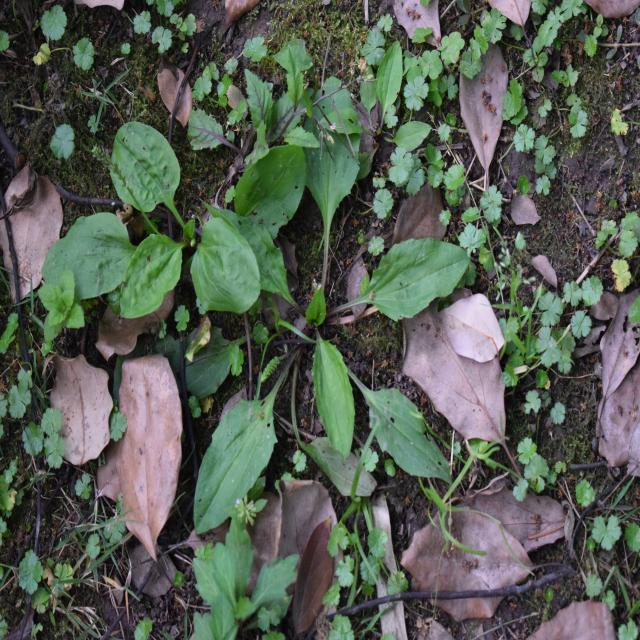plantain: (214, 134, 460, 514), (52, 140, 292, 336)
